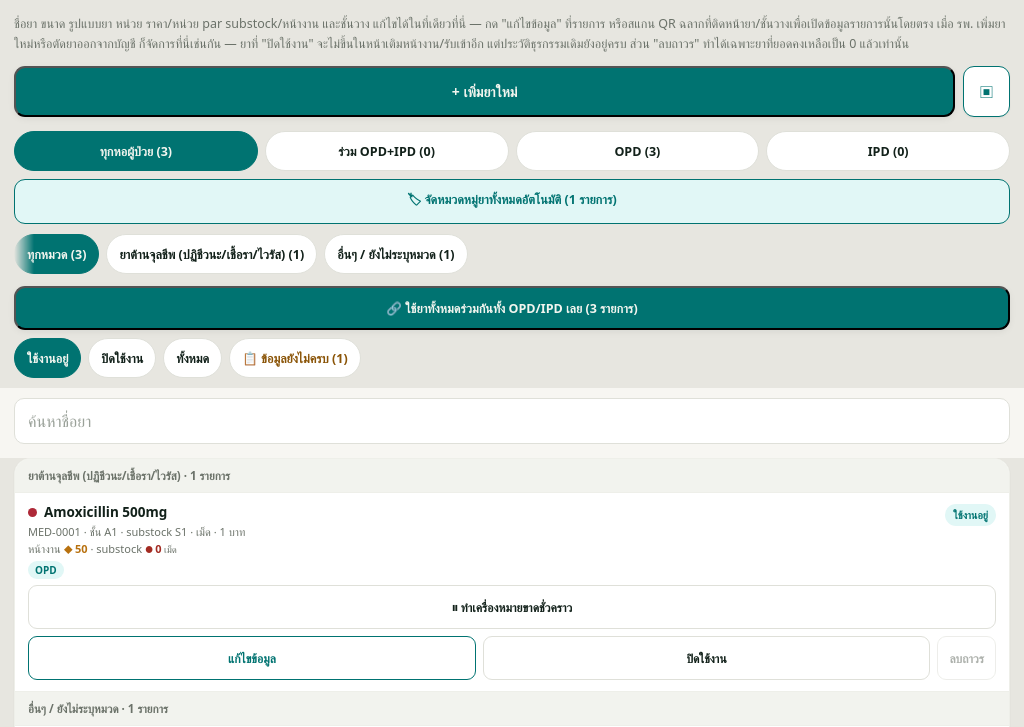
MedsScreen — data-completeness diagnostic regression › counts a med missing its floor bin/category, excludes a complete one, and never counts a missing substock bin against a noSubstock med
Click the button "📋 ข้อมูลยังไม่ครบ (1)".
click(295, 358)  # box [229,338,361,378]
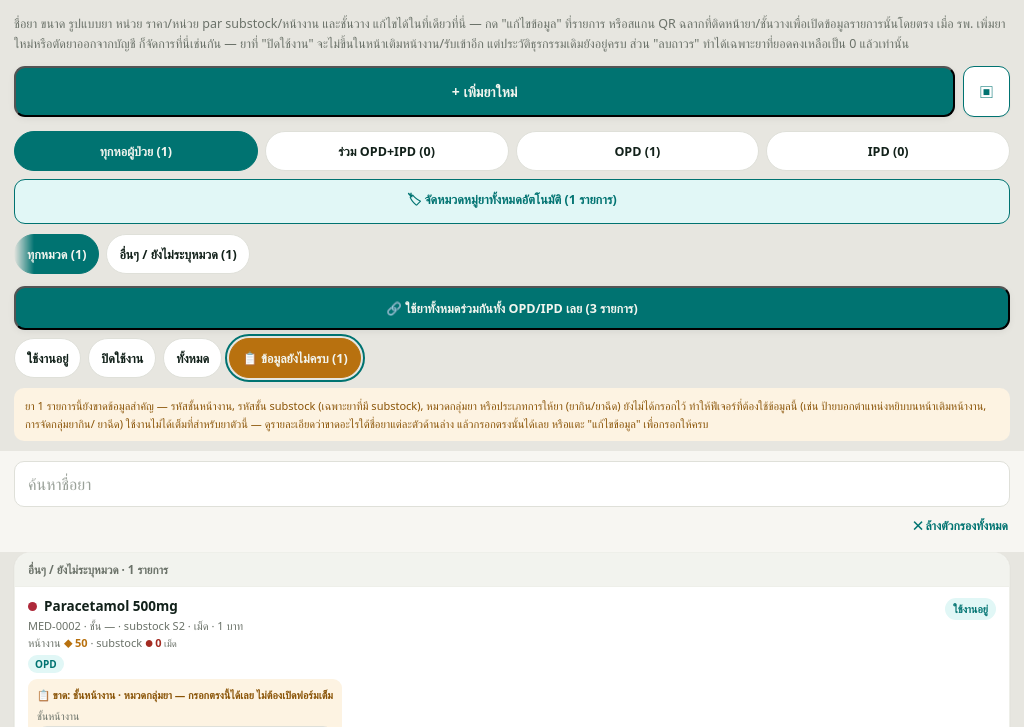
Check: the text "Paracetamol 500mg" is shown, box [44,598,178,616]
Check: the text "Amoxicillin 500mg" is gone
Check: the text "ขาด: ชั้นหน้างาน · หมวดกลุ่มยา" is shown, box [37,688,333,702]
